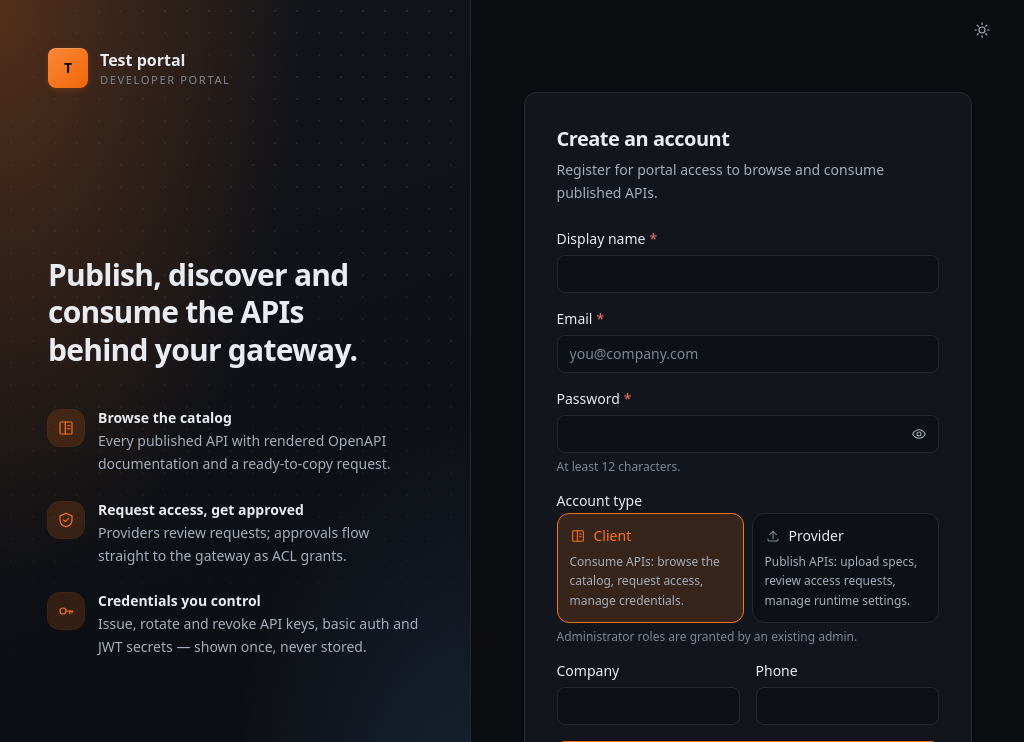
it: App mutation error policy › keeps /register validation errors inline only
Expected: the heading "Create an account" is shown, [556, 125, 729, 152]
In the password field labelled "Password*": [748, 434] box [556, 414, 938, 452], type "test-password-long-enough"
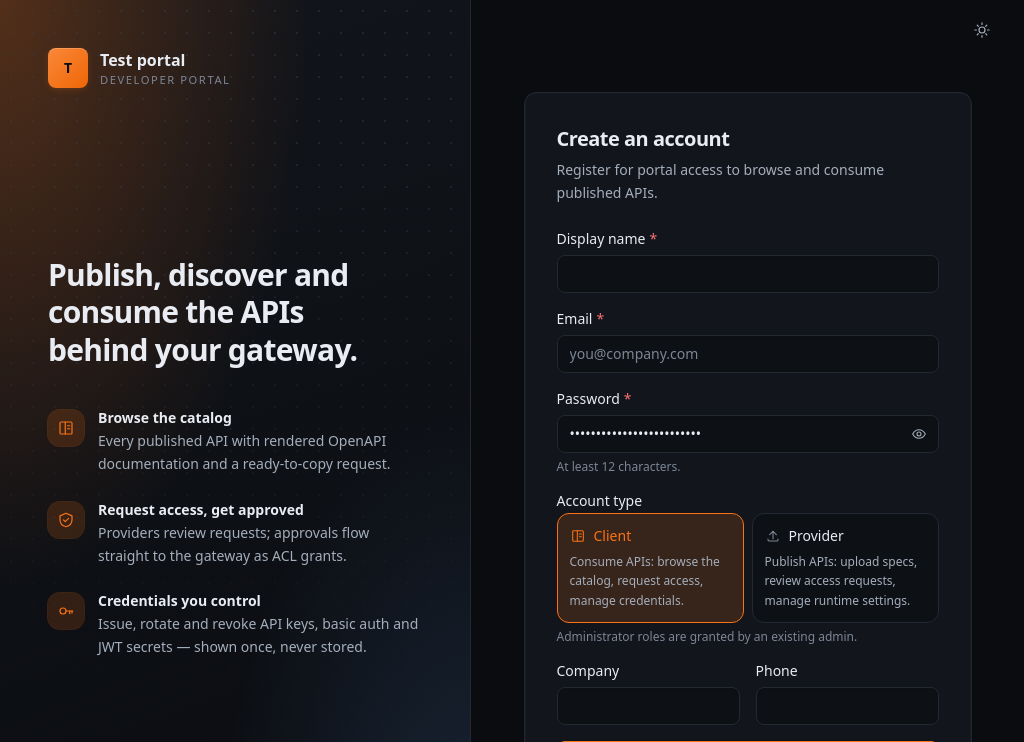
In the button named "password": [918, 434] box [902, 418, 934, 450], type "test-password-long-enough"
(page scrolled)
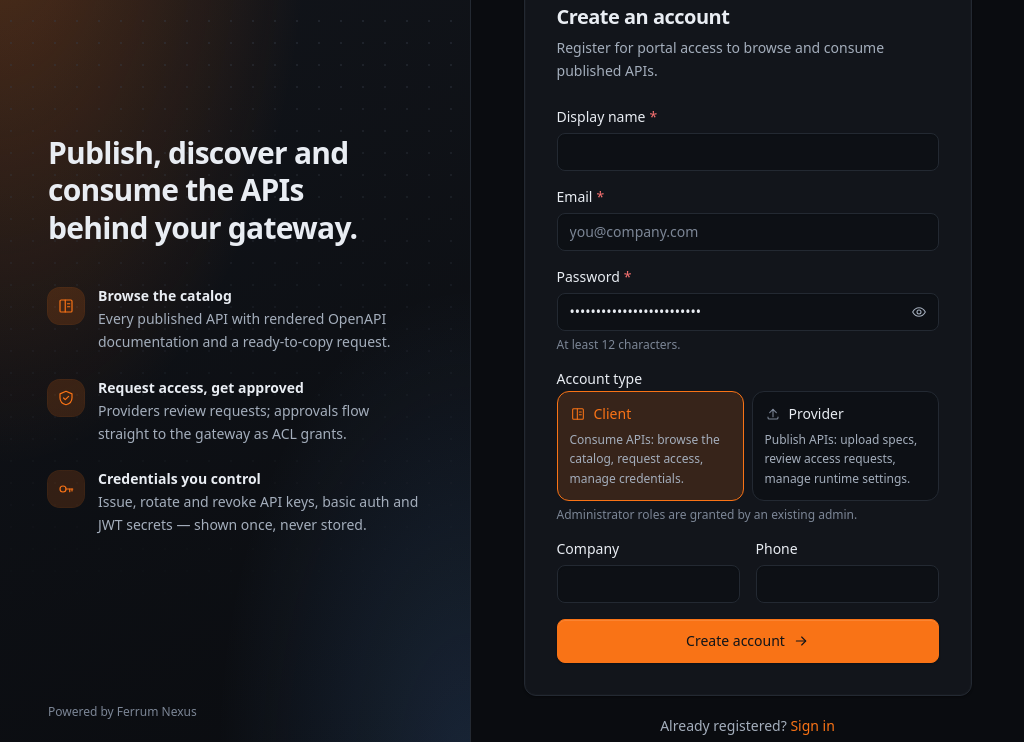
Submit the form, box [556, 106, 938, 663]
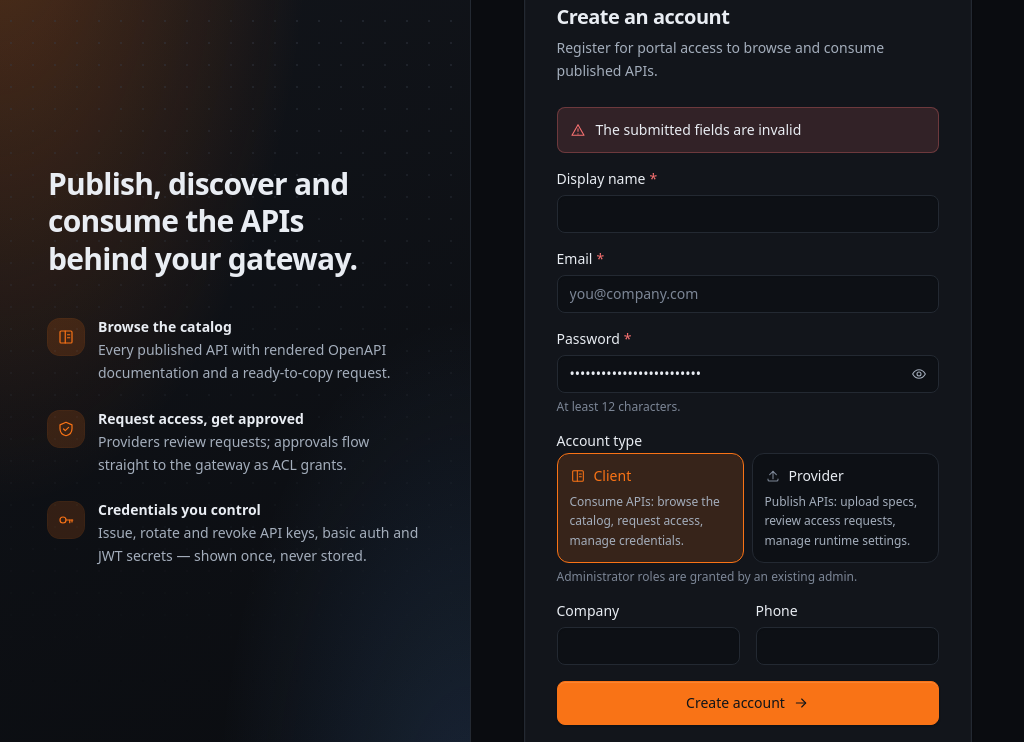
Expected: the message reads "The submitted fields are invalid", [596, 120, 801, 138]
